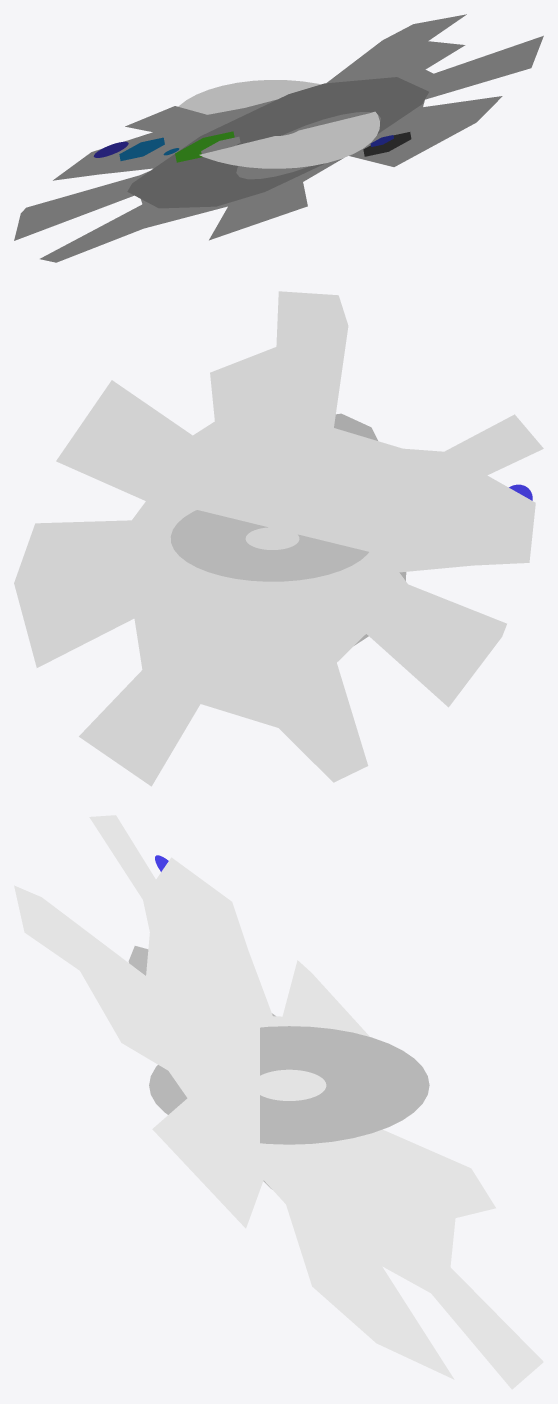
The model's file is pref_fx_Bulbasaur_spellG_atk_000303_lv3.fbx.
3 renders of one model, top to bottom at view 1: azimuth 30°, elevation 25°; view 2: azimuth 150°, elevation 25°; view 3: azimuth 270°, elevation 25°, orthographic. The views are drawn at different scales.
Visible parts, largest first — view 1: sm_guangshu_da_xxxx, sm_hong, sm_kuosan, sm_guangban, sm_andi; view 2: sm_guangshu_da_xxxx, sm_kuosan, sm_hong; view 3: sm_guangshu_da_xxxx, sm_kuosan.
Part boxes in pixels (bbox=[...]): sm_guangshu_da_xxxx: bbox=[14, 14, 543, 262]; sm_hong: bbox=[127, 77, 428, 208]; sm_kuosan: bbox=[178, 80, 379, 168]; sm_guangban: bbox=[93, 112, 411, 179]; sm_andi: bbox=[222, 115, 328, 173]; sm_guangshu_da_xxxx: bbox=[14, 291, 543, 786]; sm_kuosan: bbox=[170, 510, 368, 581]; sm_hong: bbox=[334, 413, 406, 645]; sm_guangshu_da_xxxx: bbox=[14, 815, 543, 1389]; sm_kuosan: bbox=[149, 1026, 429, 1144].
Bounding box in the file's own units: 17.99 × 12.76 × 12.76.
